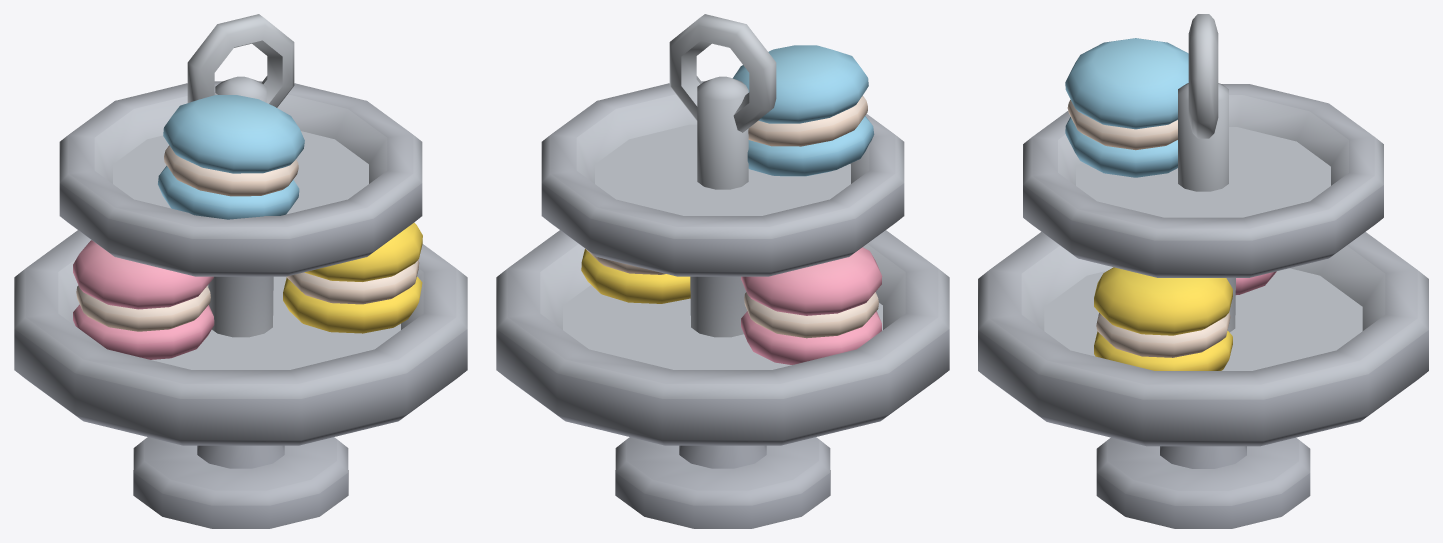
The model's file is pastry-stand-b-decorated.glb.
3 views of the same model, side by side, from view 1: azimuth 30°, elevation 25°; view 2: azimuth 150°, elevation 25°; view 3: azimuth 270°, elevation 25° (orthographic).
Parts seen in each view (by area): view 1: pastry_stand_B_decorated; view 2: pastry_stand_B_decorated; view 3: pastry_stand_B_decorated.
Part boxes in pixels (<box>): pastry_stand_B_decorated: <box>14,14,467,528</box>; pastry_stand_B_decorated: <box>496,14,949,528</box>; pastry_stand_B_decorated: <box>978,14,1428,528</box>.
Size of the model in its own units: 0.8 by 0.9 by 0.8.
1 material, 1 textured.
